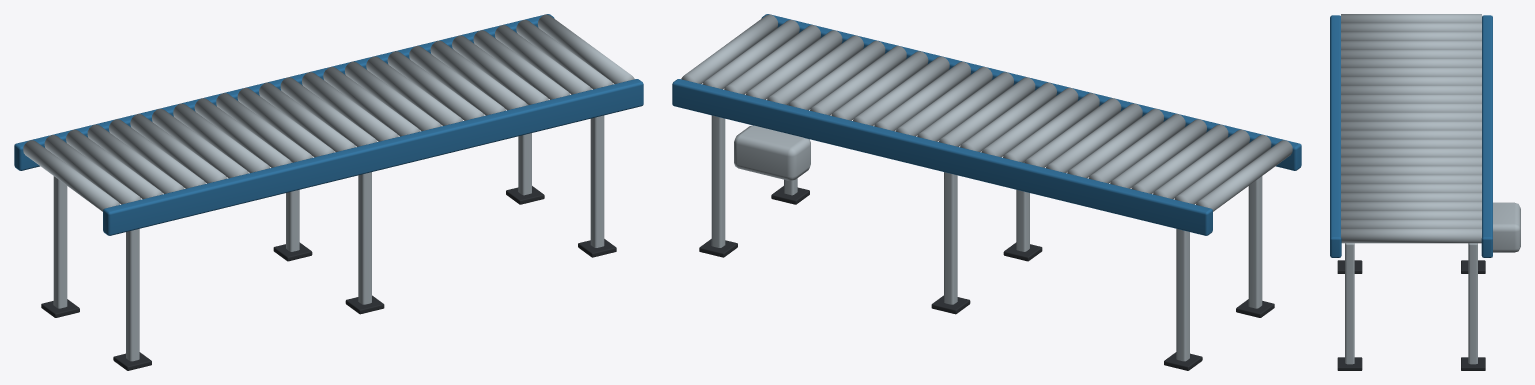
The model's file is conveyor.glb.
3 views of the same model, side by side, from view 1: azimuth 30°, elevation 25°; view 2: azimuth 150°, elevation 25°; view 3: azimuth 270°, elevation 25° (orthographic). The views are drawn at different scales.
Visible parts, largest first — view 1: Side_rail, Side_rail.001, Leg.004, Leg.001, Steel_roller, Steel_roller.004, Steel_roller.008, Steel_roller.020, Steel_roller.001, Steel_roller.010, Steel_roller.021, Steel_roller.023 (+21 smaller); view 2: Side_rail.001, Motor, Side_rail, Leg.005, Leg, Steel_roller, Steel_roller.004, Steel_roller.008, Steel_roller.020, Steel_roller.001, Steel_roller.010, Steel_roller.021 (+21 smaller); view 3: Side_rail, Side_rail.001, Steel_roller.024, Steel_roller.003, Steel_roller.004, Steel_roller.005, Steel_roller.006, Steel_roller.007, Steel_roller.008, Steel_roller.009, Steel_roller.010, Steel_roller.011 (+22 smaller).
Part boxes in pixels (<box>): Side_rail: <box>103,79,643,235</box>; Side_rail.001: <box>14,14,554,170</box>; Leg.004: <box>590,115,604,247</box>; Leg.001: <box>53,176,67,308</box>; Steel_roller: <box>23,140,119,211</box>; Steel_roller.004: <box>109,119,205,188</box>; Steel_roller.008: <box>194,98,291,167</box>; Steel_roller.020: <box>452,35,548,104</box>; Steel_roller.001: <box>44,135,141,204</box>; Steel_roller.010: <box>237,88,334,157</box>; Steel_roller.021: <box>473,30,570,99</box>; Steel_roller.023: <box>516,20,613,89</box>; Side_rail.001: <box>672,79,1212,235</box>; Motor: <box>734,125,810,180</box>; Side_rail: <box>761,14,1301,170</box>; Leg.005: <box>711,115,725,247</box>; Leg: <box>1248,176,1262,308</box>; Steel_roller: <box>1196,140,1292,211</box>; Steel_roller.004: <box>1110,119,1206,188</box>; Steel_roller.008: <box>1024,98,1121,167</box>; Steel_roller.020: <box>767,35,863,104</box>; Steel_roller.001: <box>1174,135,1271,204</box>; Steel_roller.010: <box>981,88,1078,157</box>; Steel_roller.021: <box>745,30,842,99</box>; Side_rail: <box>1330,15,1341,257</box>; Side_rail.001: <box>1481,15,1492,257</box>; Steel_roller.024: <box>1341,228,1481,243</box>; Steel_roller.003: <box>1341,40,1481,49</box>; Steel_roller.004: <box>1341,49,1481,58</box>; Steel_roller.005: <box>1341,58,1481,67</box>; Steel_roller.006: <box>1341,67,1481,76</box>; Steel_roller.007: <box>1341,76,1481,85</box>; Steel_roller.008: <box>1341,85,1481,94</box>; Steel_roller.009: <box>1341,94,1481,103</box>; Steel_roller.010: <box>1341,103,1481,112</box>; Steel_roller.011: <box>1341,112,1481,121</box>.
Size of the model in its own units: 3 by 0.922 by 1.08.
